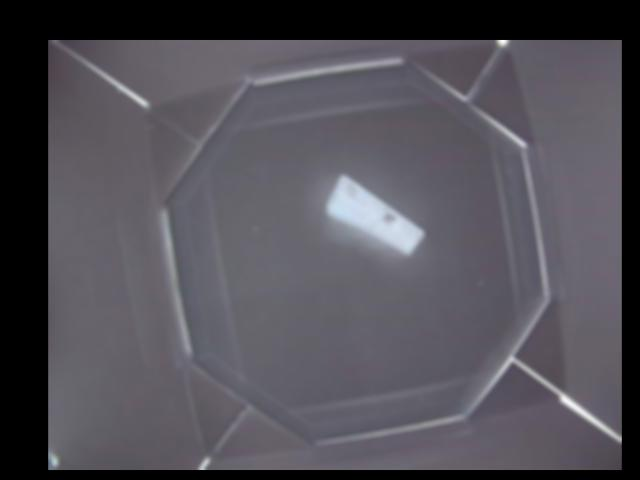China: (327, 173, 427, 255)
